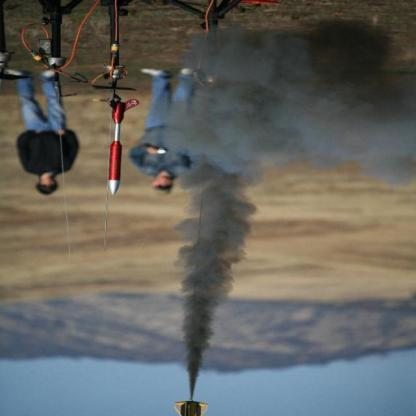MIL_TBM: (105, 96, 134, 194)
